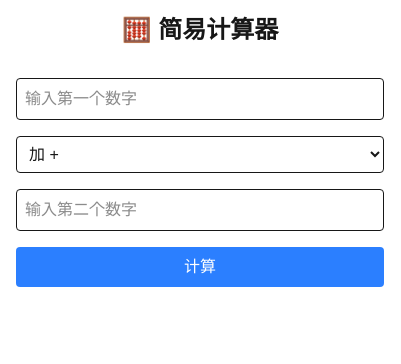
Test case: CalculatorPage › performs calculation and displays result
In the number field with placeholder "输入第一个数字": (200, 99) top-left (16, 78), bottom-right (384, 120), type "3"
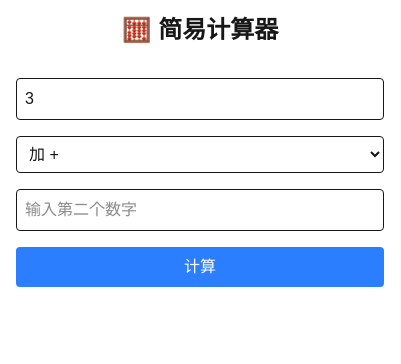
In the number field with placeholder "输入第二个数字": (200, 210) top-left (16, 189), bottom-right (384, 231), type "5"
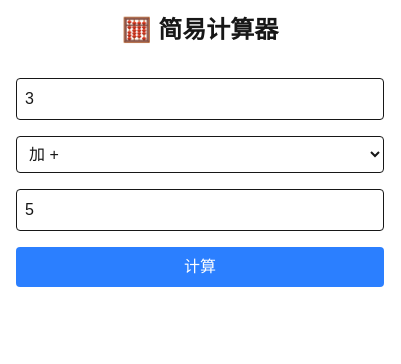
Select "加 +" in the dropdown: (200, 154) top-left (16, 136), bottom-right (384, 173)
Click the button "计算": (200, 267) top-left (16, 247), bottom-right (384, 287)
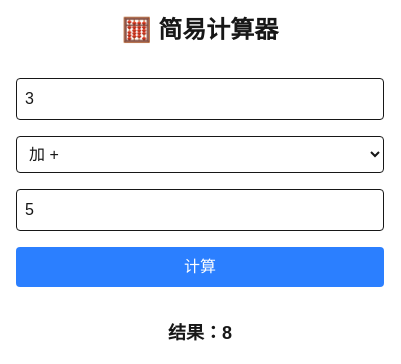
Now the text with test id "result" reads "结果：8", box top-left (168, 319), bottom-right (232, 347)
